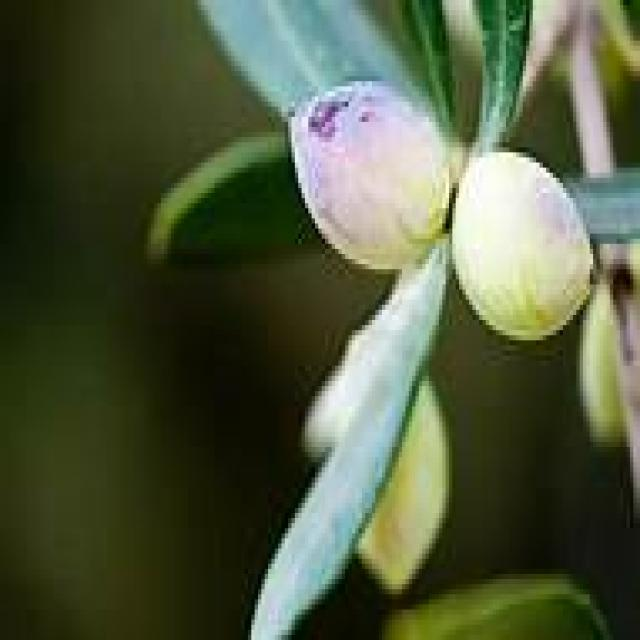Olive Fruit Fly: (288, 81, 462, 273)
